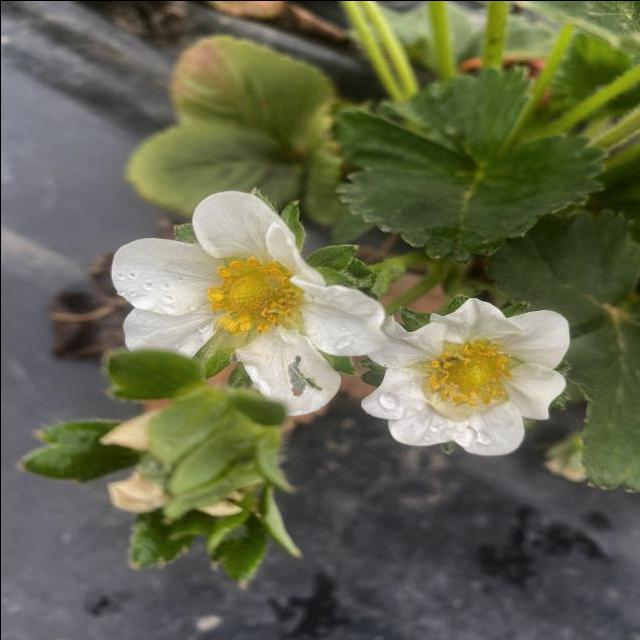flower: (99, 190, 384, 421), (356, 291, 580, 465)
